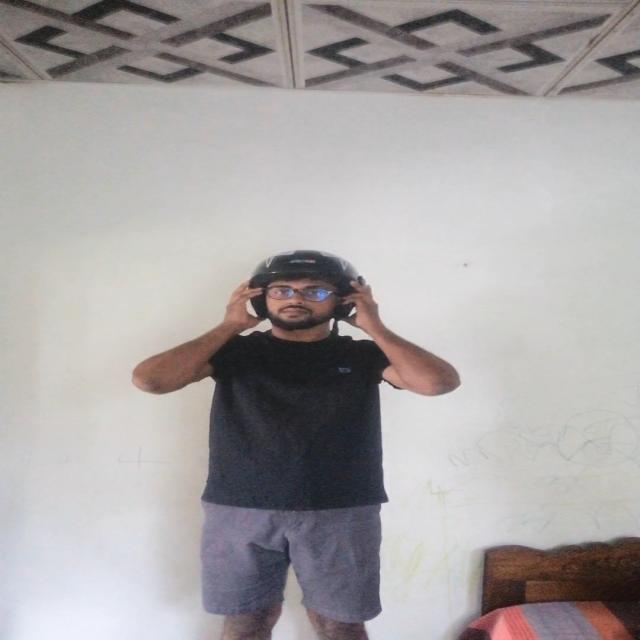Helmet_Wearer: (238, 247, 370, 355)
Person: (140, 253, 460, 636)
